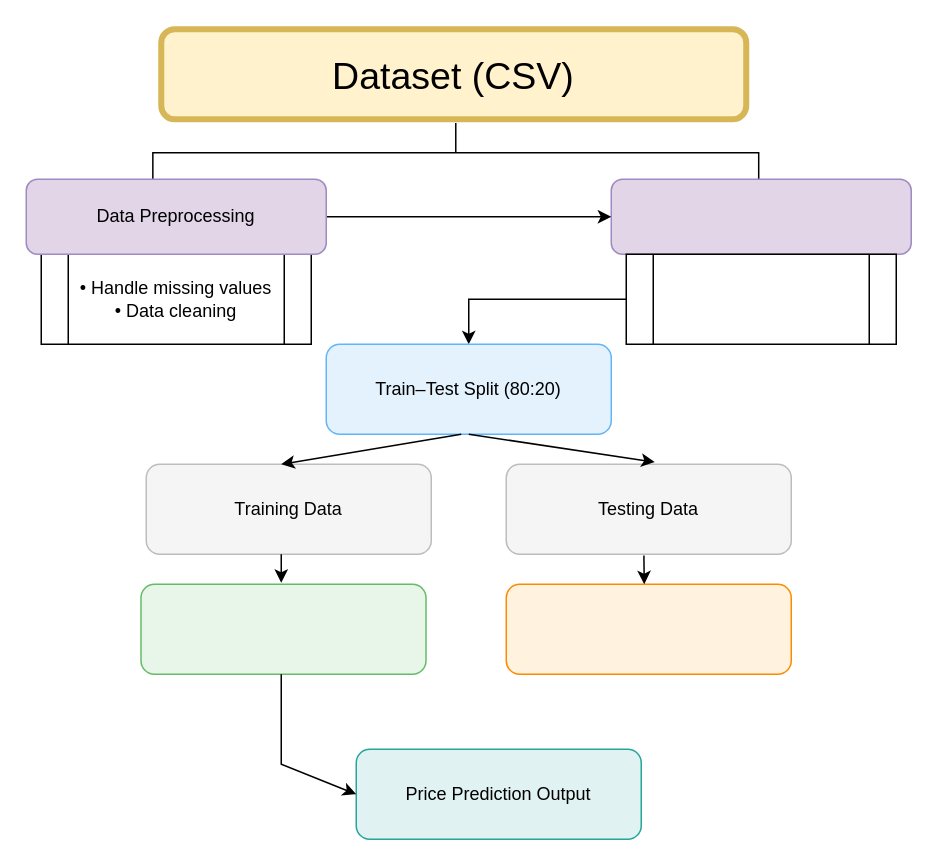
Image size: 938x866. Some labels were removed from this diagram. Each missing label, with the box of its shape:
Feature Engineering: (610, 178, 911, 254)
Model Evaluation (R², MAE): (505, 583, 791, 674)
Random Forest Model: (140, 583, 426, 674)
• Feature selection • Encoding: (625, 253, 896, 344)
